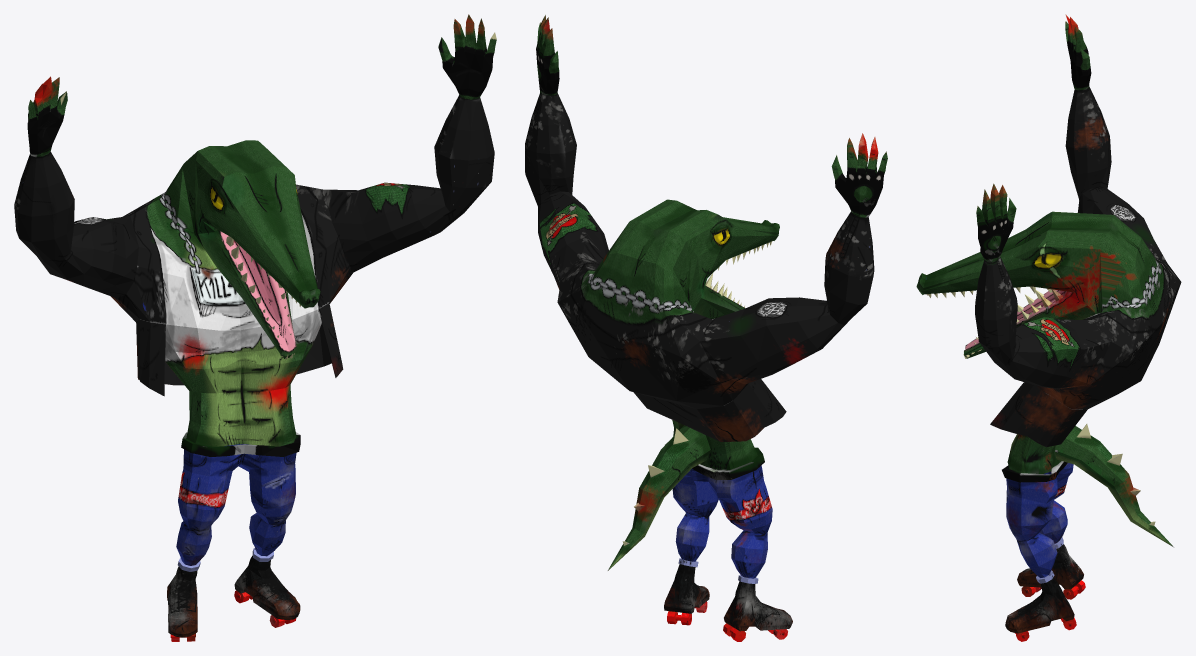
File: cocodrilaBonesSelect_000009.obj
3 views of the same model, side by side, from view 1: azimuth 30°, elevation 25°; view 2: azimuth 150°, elevation 25°; view 3: azimuth 270°, elevation 25° (orthographic). The views are drawn at different scales.
Parts seen in each view (by area): view 1: Crocodile.002_Cylinder.002; view 2: Crocodile.002_Cylinder.002; view 3: Crocodile.002_Cylinder.002.
Part boxes in pixels (bbox=[...]): Crocodile.002_Cylinder.002: bbox=[14, 14, 496, 641]; Crocodile.002_Cylinder.002: bbox=[525, 15, 887, 641]; Crocodile.002_Cylinder.002: bbox=[916, 14, 1181, 641].
Bounding box in the file's own units: 6.39 × 8.36 × 3.78.
